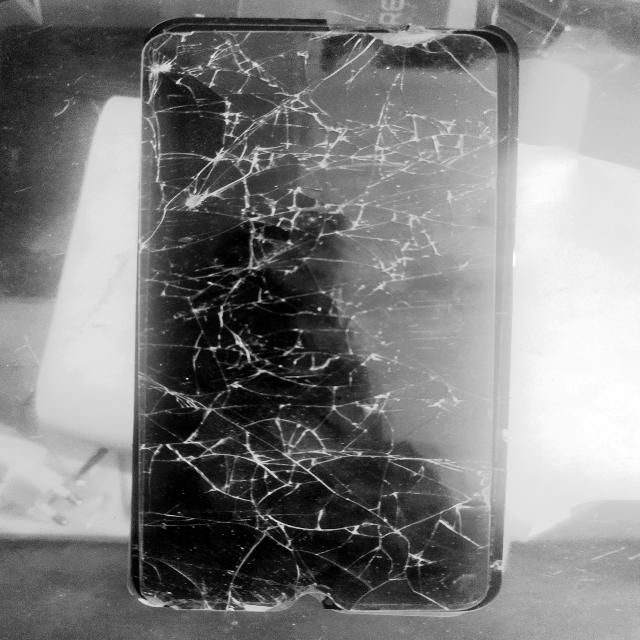Crack: (122, 365, 501, 630), (126, 16, 538, 241), (125, 237, 515, 439)
